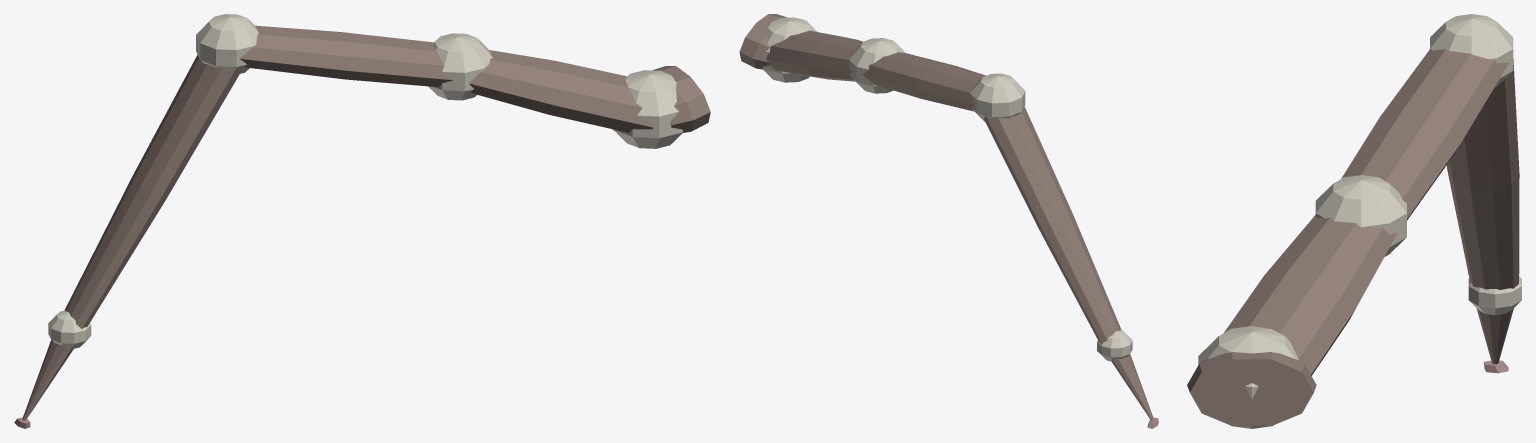
File: crab_leg_l2_original_01.glb
3 renders of one model, left to right at view 1: azimuth 30°, elevation 25°; view 2: azimuth 150°, elevation 25°; view 3: azimuth 270°, elevation 25°, orthographic. The views are drawn at different scales.
Parts seen in each view (by area): view 1: L2Segment3, L2Segment2, L2Segment1, L2Articulation1, L2Articulation2, L2Articulation3, L2Segment0, L2Segment4, L2Articulation4; view 2: L2Segment3, L2Segment2, L2Segment1, L2Articulation3, L2Articulation2, L2Articulation1, L2Segment0, L2Segment4, L2Articulation4; view 3: L2Segment1, L2Segment2, L2Segment3, L2Segment0, L2Articulation2, L2Articulation3, L2Articulation1, L2Articulation4, L2Segment4.
Boxes of the visible parts, <box> form: L2Segment3: <box>65,55,242,328</box>; L2Segment2: <box>239,25,453,87</box>; L2Segment1: <box>469,50,653,132</box>; L2Articulation1: <box>613,70,683,148</box>; L2Articulation2: <box>428,33,492,100</box>; L2Articulation3: <box>196,14,258,73</box>; L2Segment0: <box>653,66,710,132</box>; L2Segment4: <box>22,340,73,420</box>; L2Articulation4: <box>48,310,91,348</box>; L2Segment3: <box>982,106,1121,343</box>; L2Segment2: <box>862,52,985,111</box>; L2Segment1: <box>766,30,862,81</box>; L2Articulation3: <box>970,73,1025,121</box>; L2Articulation2: <box>849,38,905,93</box>; L2Articulation1: <box>762,17,817,82</box>; L2Segment0: <box>739,14,787,69</box>; L2Segment4: <box>1111,354,1154,421</box>; L2Articulation4: <box>1097,330,1132,361</box>; L2Segment1: <box>1224,215,1397,375</box>; L2Segment2: <box>1341,49,1508,220</box>; L2Segment3: <box>1446,59,1519,289</box>; L2Segment0: <box>1187,352,1316,426</box>; L2Articulation2: <box>1315,175,1406,256</box>; L2Articulation3: <box>1430,14,1513,87</box>; L2Articulation1: <box>1198,326,1299,428</box>; L2Articulation4: <box>1468,276,1521,315</box>; L2Segment4: <box>1476,308,1513,364</box>.
Bounding box in the file's own units: 0.4993 × 0.3023 × 0.1927.
